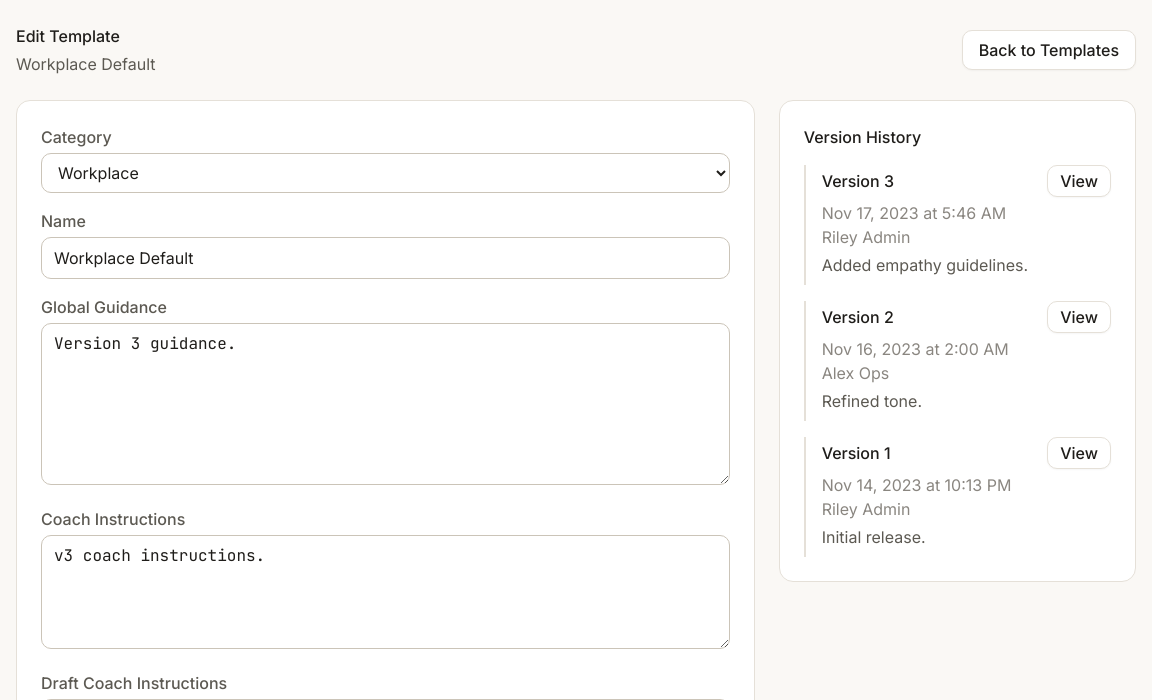
it: AC7: Version history timeline › clicking 'View' shows a read-only view of that version's fields
Versions are descending, so last View button is version 1
Click the 3rd button "View" at (1079, 453), box [1047, 437, 1111, 469]
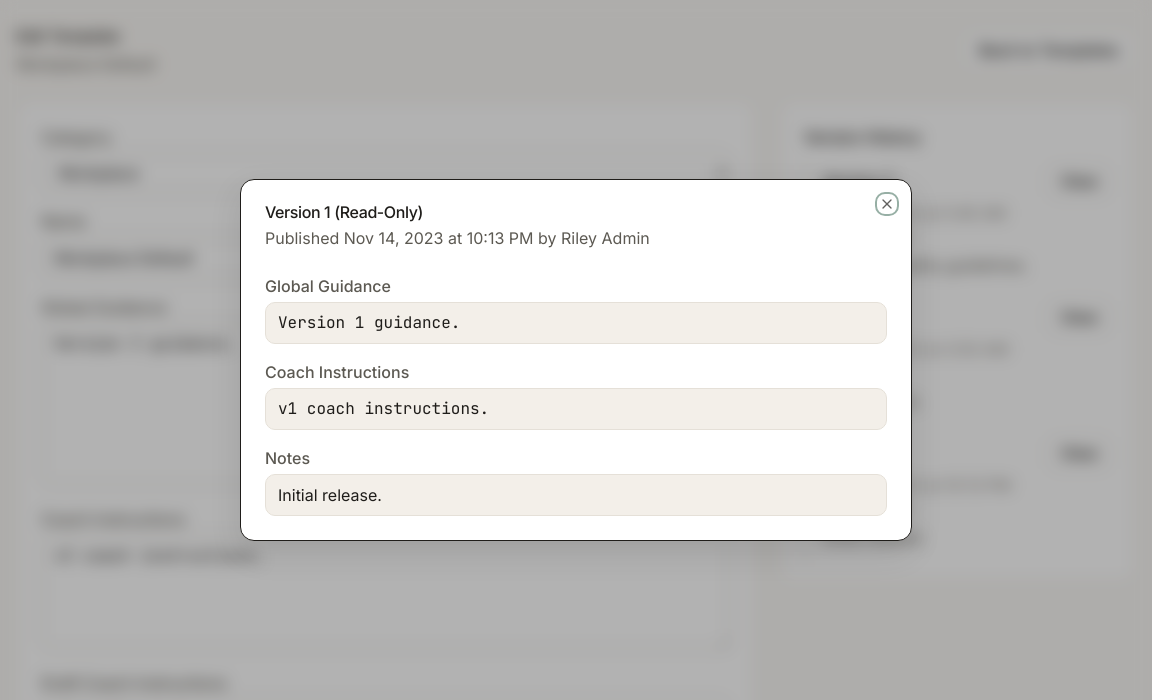
Expected: the text "Version 1 guidance." is shown, [265, 302, 887, 344]
